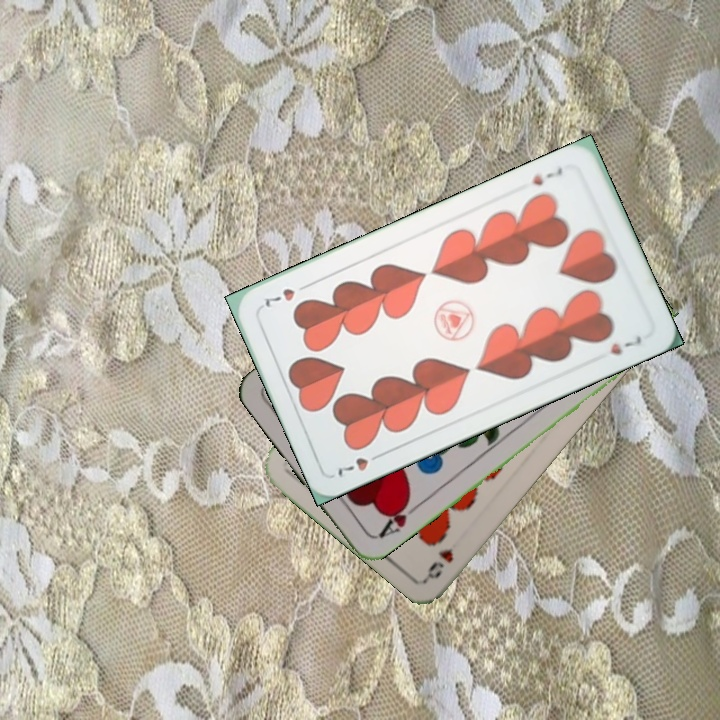H7: (333, 448, 387, 481), (528, 163, 565, 189)
H9: (422, 543, 457, 582)
HA: (374, 495, 424, 541)
